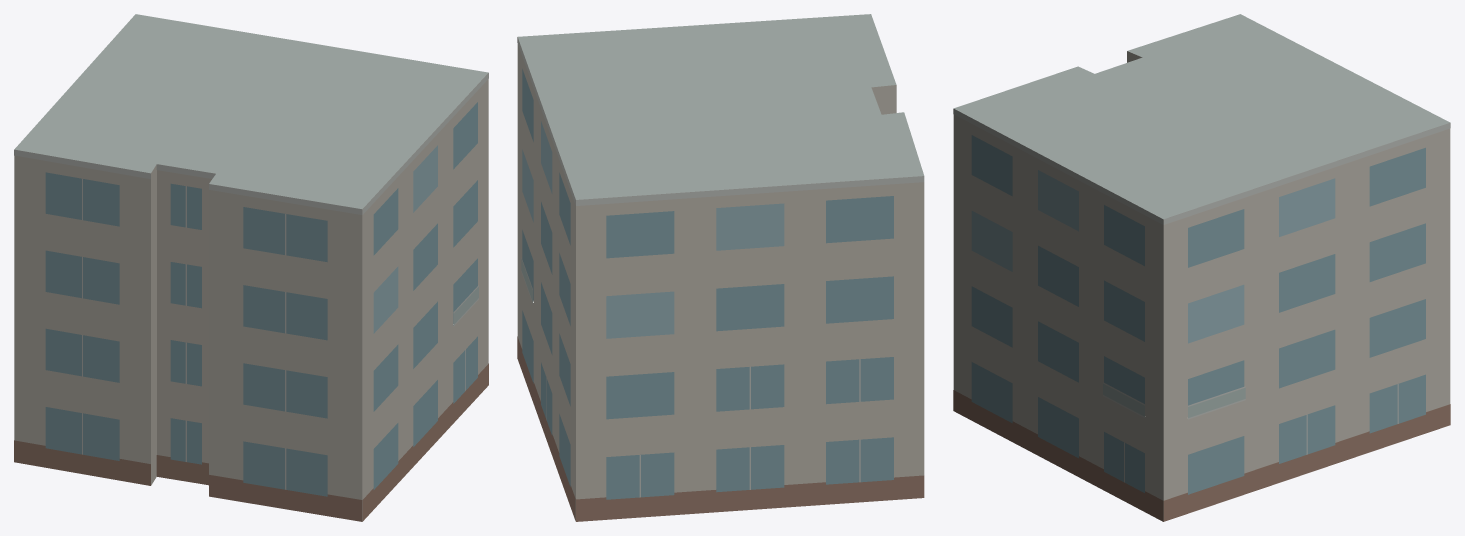
The model's file is survey-upis-32991465.glb.
3 renders of one model, left to right at view 1: azimuth 30°, elevation 25°; view 2: azimuth 150°, elevation 25°; view 3: azimuth 270°, elevation 25°, orthographic. The views are drawn at different scales.
Parts seen in each view (by area): view 1: survey-upis-32991465.tmp; view 2: survey-upis-32991465.tmp; view 3: survey-upis-32991465.tmp.
Part boxes in pixels (x1,y1,x2,y2): survey-upis-32991465.tmp: (14,14,488,521); survey-upis-32991465.tmp: (517,14,924,521); survey-upis-32991465.tmp: (953,14,1450,521).
Size of the model in its own units: 18.64 by 12.8 by 19.06.
